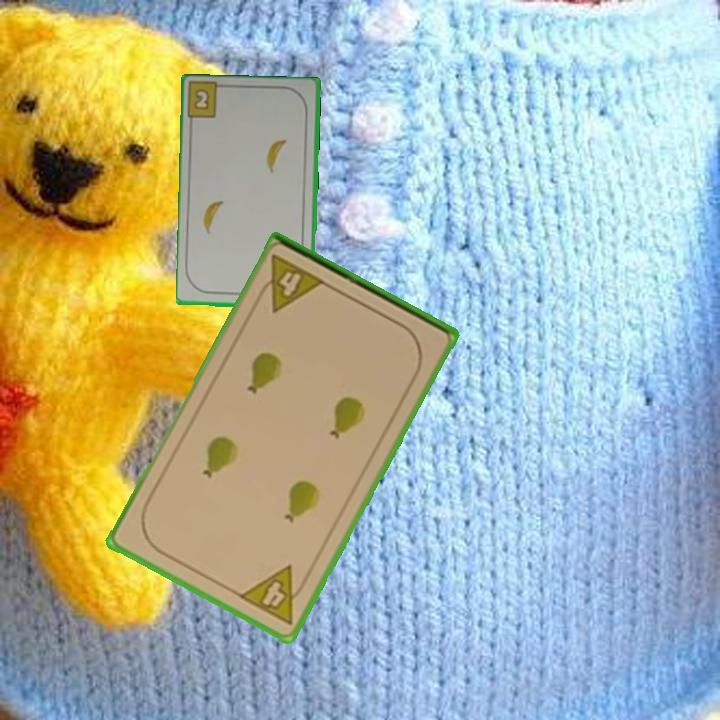2b: (191, 85, 212, 113)
4p: (235, 561, 313, 628), (252, 251, 328, 316)
